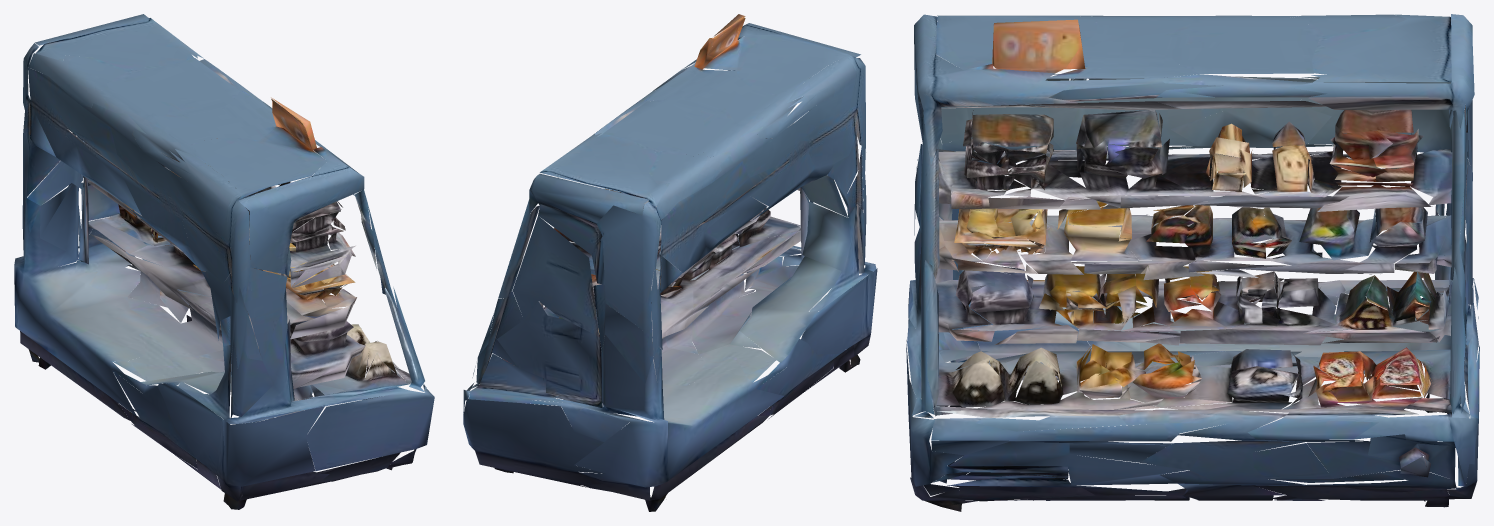
Rendered from bento_case.glb.
3 renders of one model, left to right at view 1: azimuth 30°, elevation 25°; view 2: azimuth 150°, elevation 25°; view 3: azimuth 270°, elevation 25°, orthographic. The views are drawn at different scales.
Parts seen in each view (by area): view 1: tripo_node_6251a181-e81a-4c87-b6ac-7b949d19d99f; view 2: tripo_node_6251a181-e81a-4c87-b6ac-7b949d19d99f; view 3: tripo_node_6251a181-e81a-4c87-b6ac-7b949d19d99f.
Boxes of the visible parts, x1,y1,x2,y2 form: tripo_node_6251a181-e81a-4c87-b6ac-7b949d19d99f: (14,14,434,509); tripo_node_6251a181-e81a-4c87-b6ac-7b949d19d99f: (463,14,877,511); tripo_node_6251a181-e81a-4c87-b6ac-7b949d19d99f: (906,14,1479,511).
Size of the model in its own units: 0.6296 by 1.01 by 1.17.
Materials: 1 (1 with a texture image).
